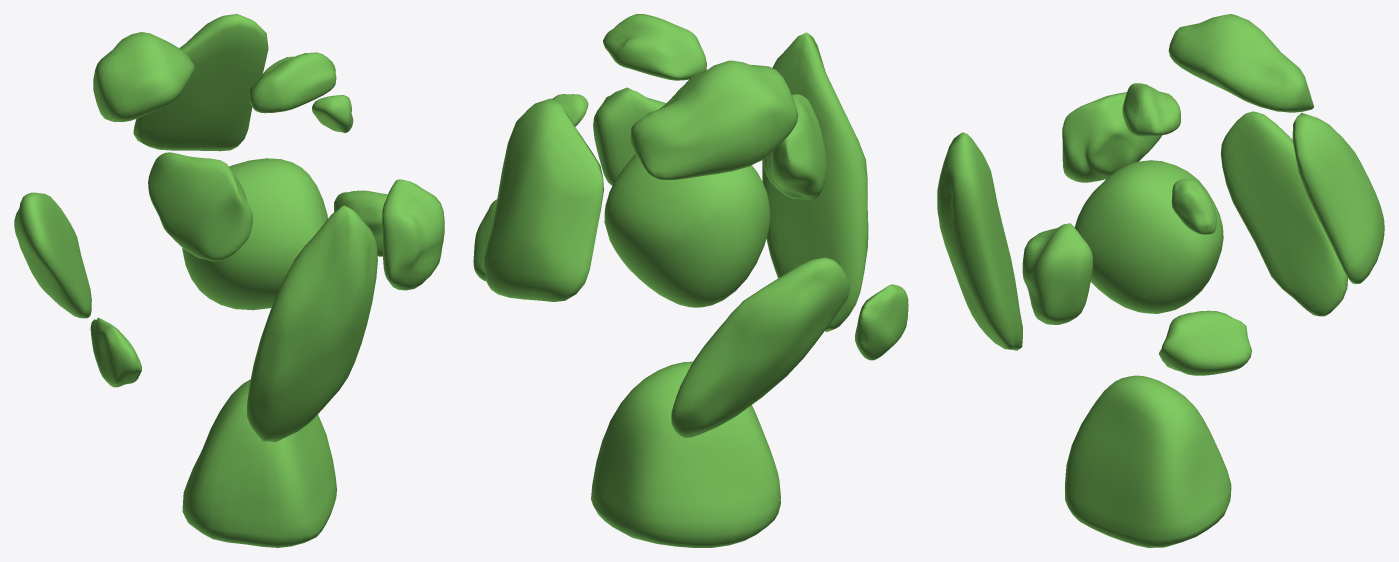
File: arbre_petit.fbx
The picture shows the model from 3 angles, left to right: view 1: azimuth 30°, elevation 25°; view 2: azimuth 150°, elevation 25°; view 3: azimuth 270°, elevation 25°; orthographic projection. The views are drawn at different scales.
Visible parts, largest first — view 1: polySurface77; view 2: polySurface77; view 3: polySurface77.
Part boxes in pixels (x1=…): polySurface77: x1=14, y1=14, x2=444, y2=547; polySurface77: x1=473, y1=14, x2=908, y2=547; polySurface77: x1=937, y1=14, x2=1384, y2=547.
Size of the model in its own units: 4.52 by 5.66 by 4.9.
